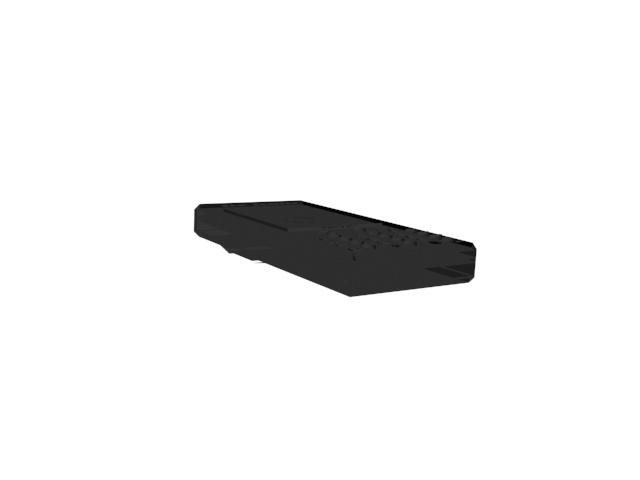mobile_phone: (193, 201, 480, 304)
